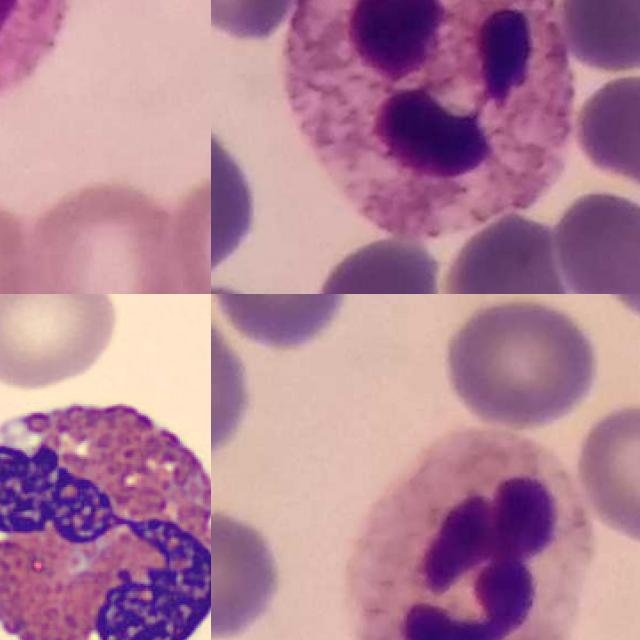Eosinophil: (0, 372, 211, 640)
Neutrophil: (278, 0, 576, 235), (344, 422, 597, 640)
RBC: (0, 294, 125, 391)
